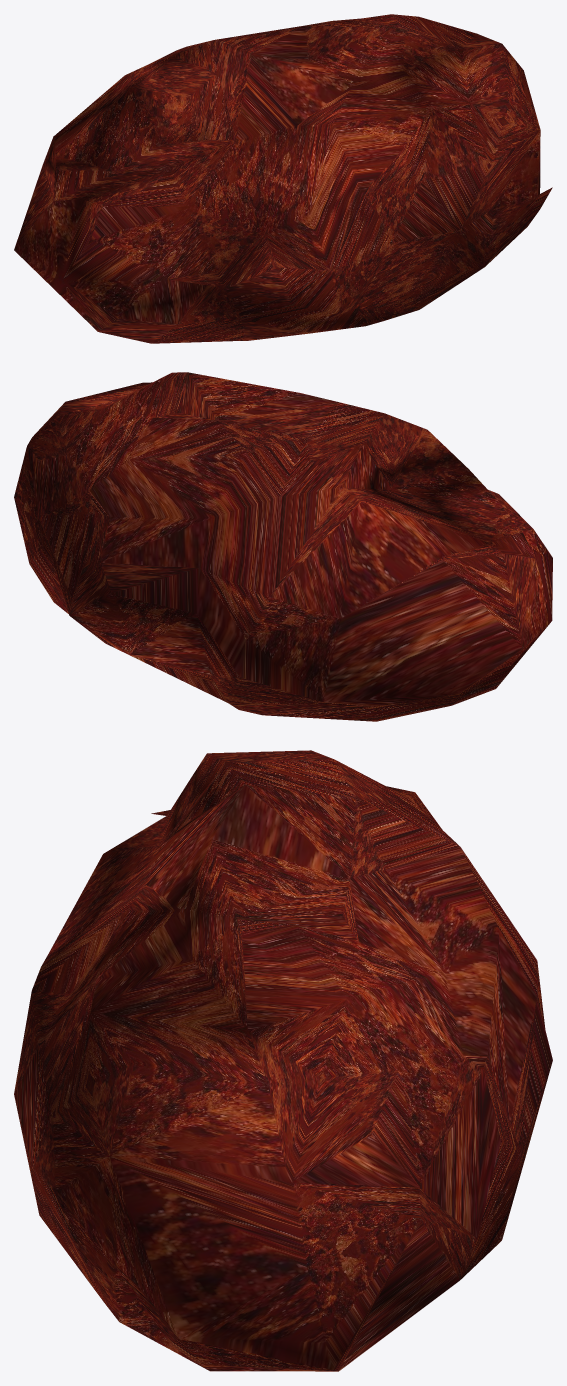
The model's file is semilla-low.glb.
The picture shows the model from 3 angles, top to bottom: view 1: azimuth 30°, elevation 25°; view 2: azimuth 150°, elevation 25°; view 3: azimuth 270°, elevation 25°; orthographic projection. The views are drawn at different scales.
Size of the model in its own units: 1.86 by 1 by 1.05.
1 material, 1 textured.
